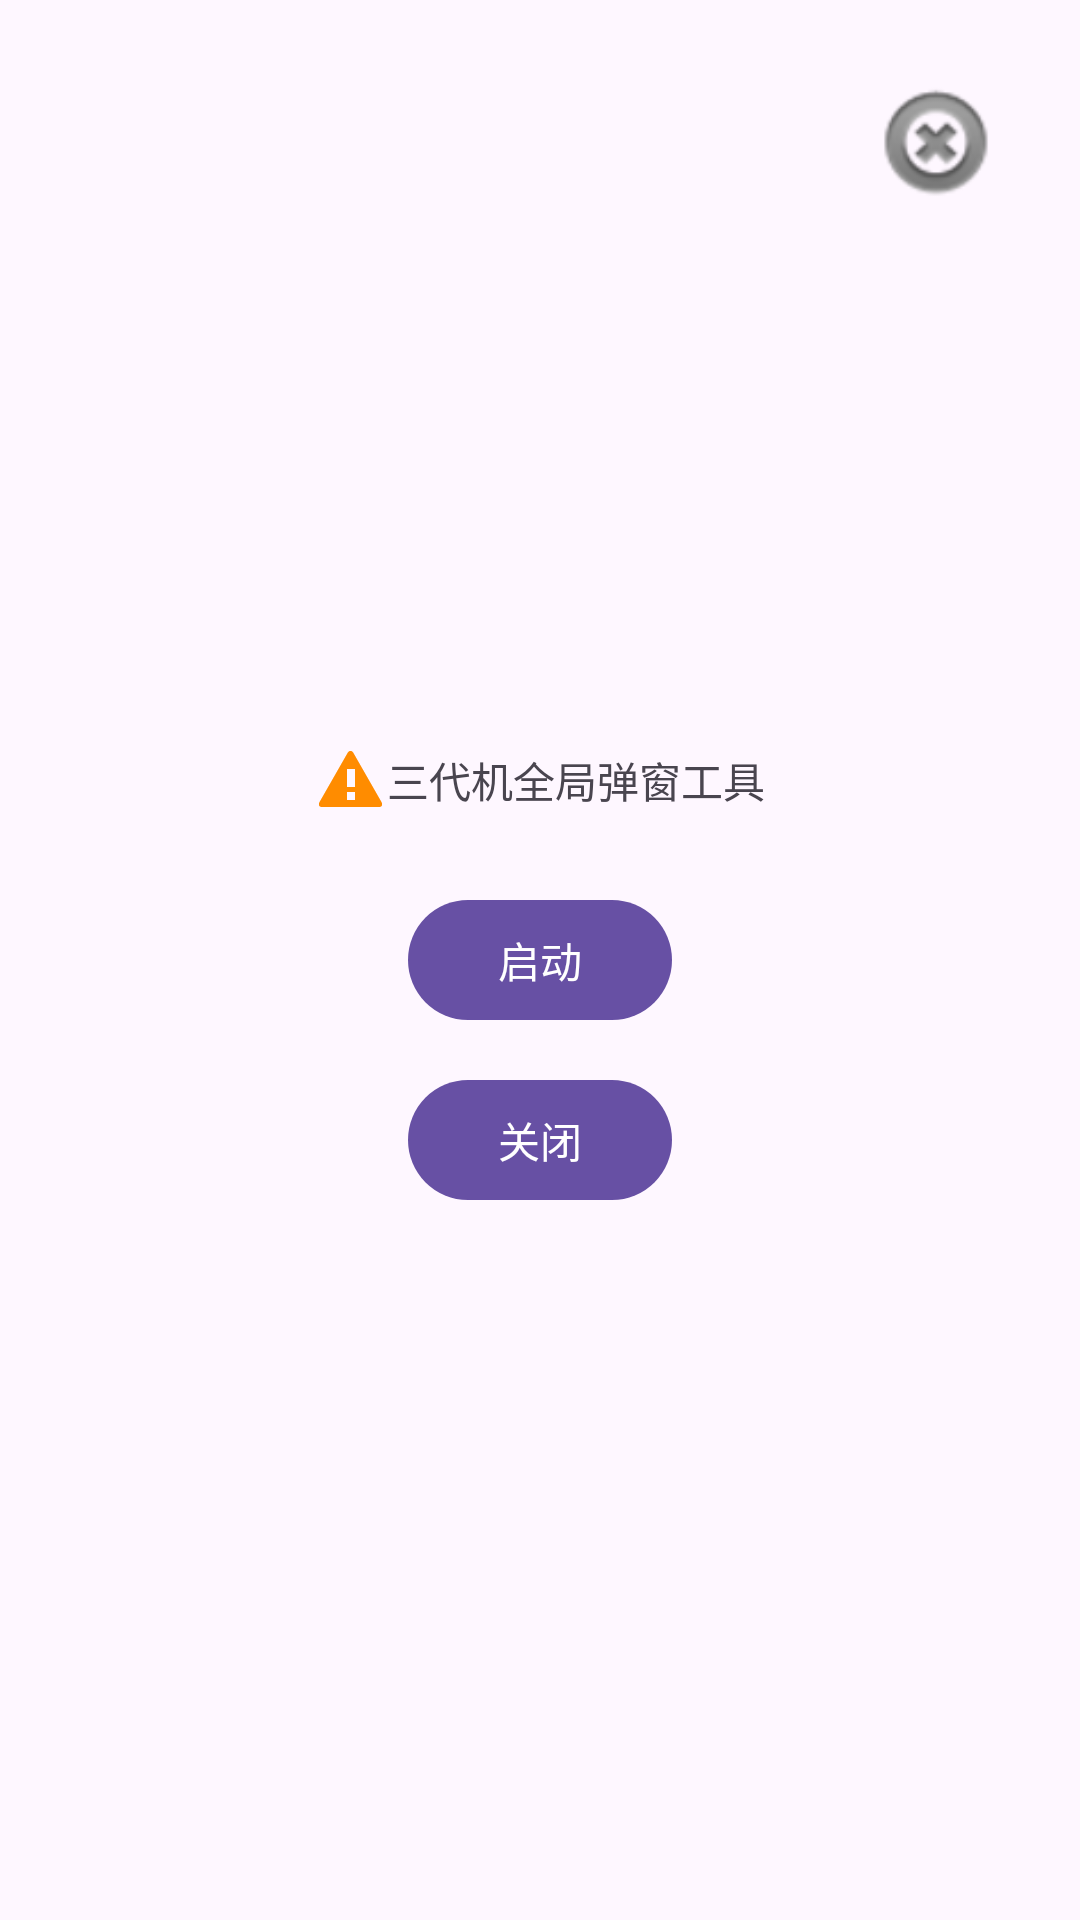

Where icons sit on this 1080 × 1920 app screen, as region(x1, y1, x2, y2):
notification clear all: region(884, 90, 988, 194)
